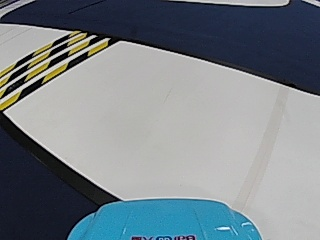bump: (6, 32, 114, 103)
